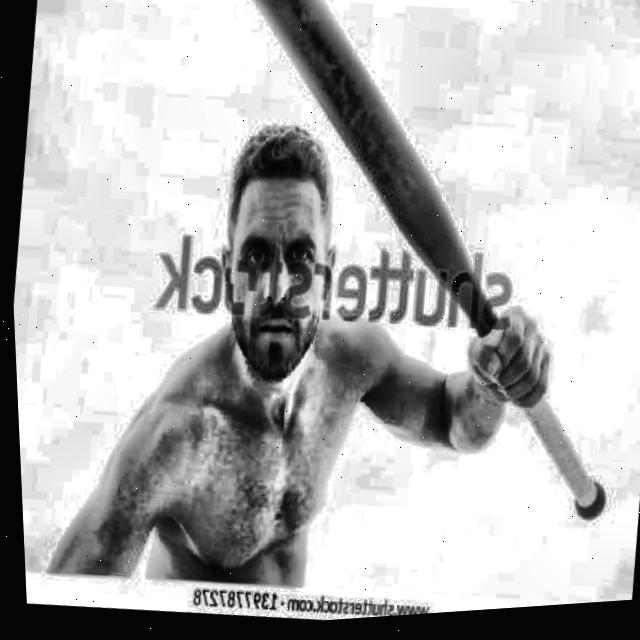tongkat pemukul: (248, 0, 617, 524)
